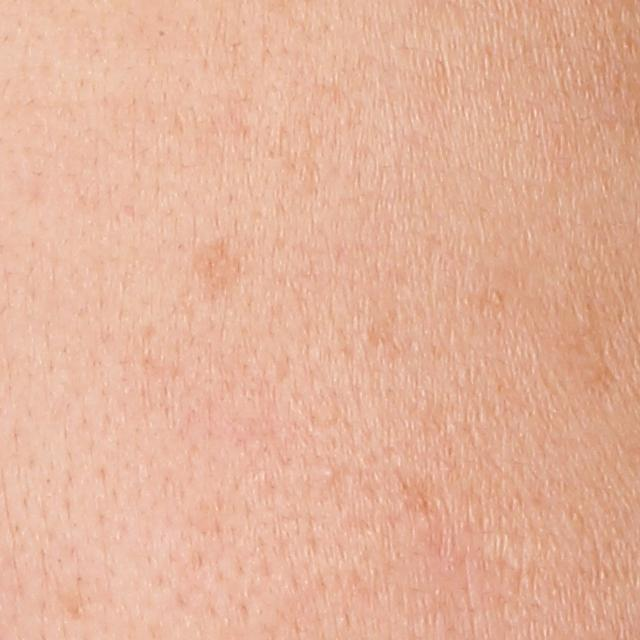comedo: (316, 465, 344, 486)
